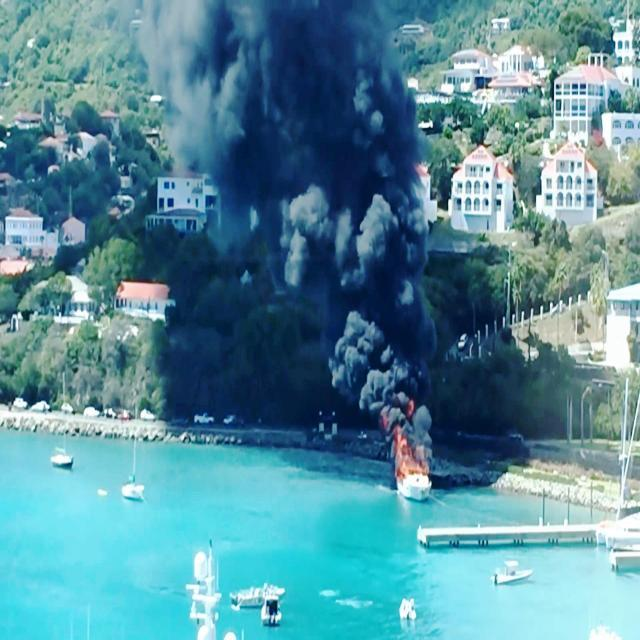Fire: (389, 414, 436, 482)
Smoke: (140, 1, 468, 409)
